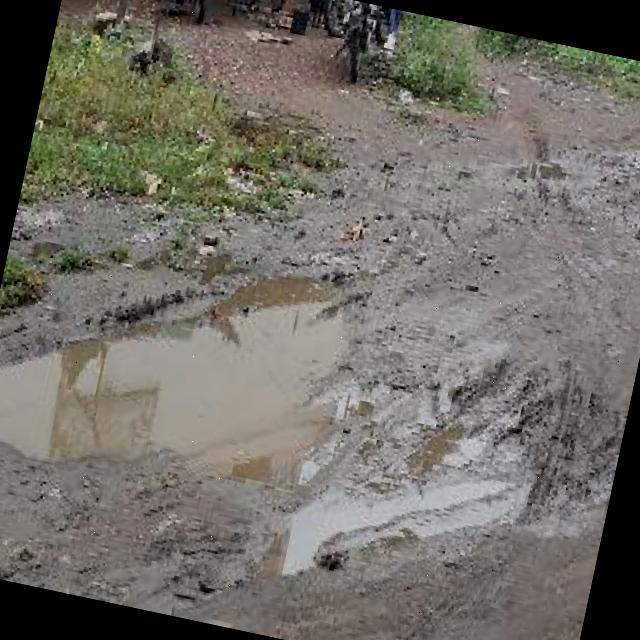stagnation: (0, 232, 427, 542)
